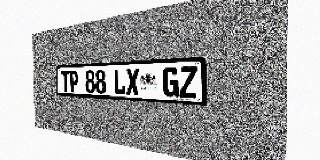8: (95, 69, 106, 94), (85, 70, 95, 93)
G: (163, 67, 179, 97)
L: (114, 69, 126, 95)
P: (69, 70, 78, 92)
T: (61, 71, 69, 92)
X: (126, 68, 139, 95)
Z: (179, 66, 197, 98)
